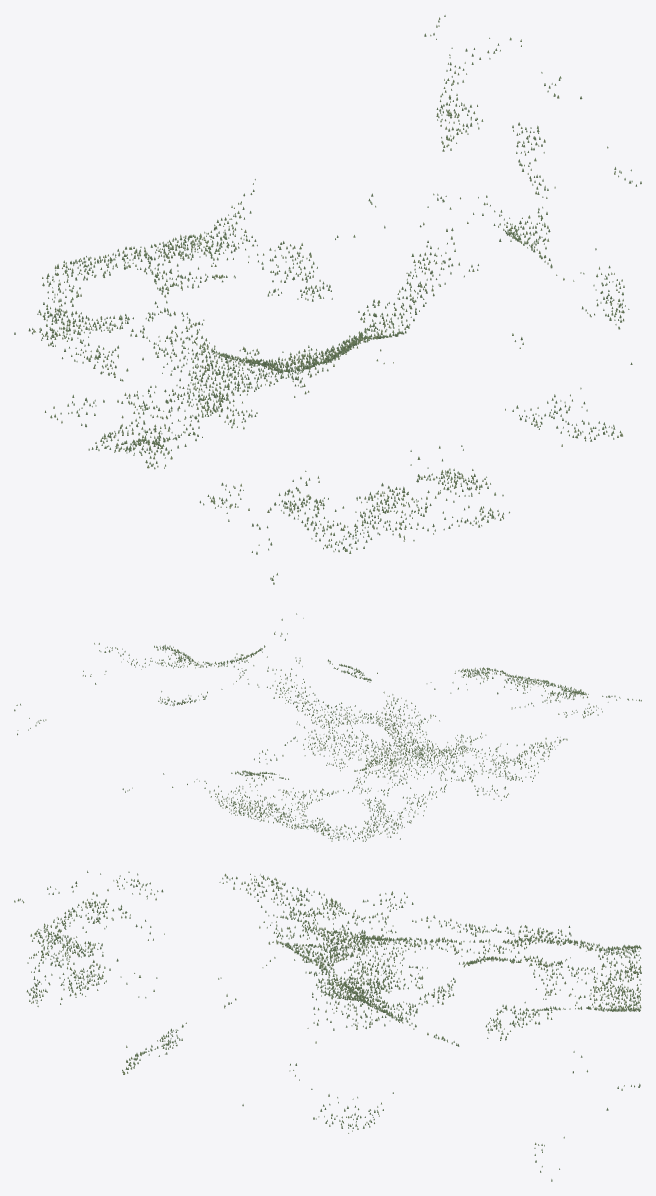
The picture shows the model from 3 angles, top to bottom: view 1: azimuth 30°, elevation 25°; view 2: azimuth 150°, elevation 25°; view 3: azimuth 270°, elevation 25°; orthographic projection. The views are drawn at different scales.
Parts seen in each view (by area): view 1: Forest 3.0; view 2: Forest 3.0; view 3: Forest 3.0.
Boxes of the visible parts, bbox=[...] form: Forest 3.0: bbox=[14, 15, 641, 584]; Forest 3.0: bbox=[14, 613, 641, 841]; Forest 3.0: bbox=[14, 870, 641, 1181].
Size of the model in its own units: 4135 by 1080 by 3790.
